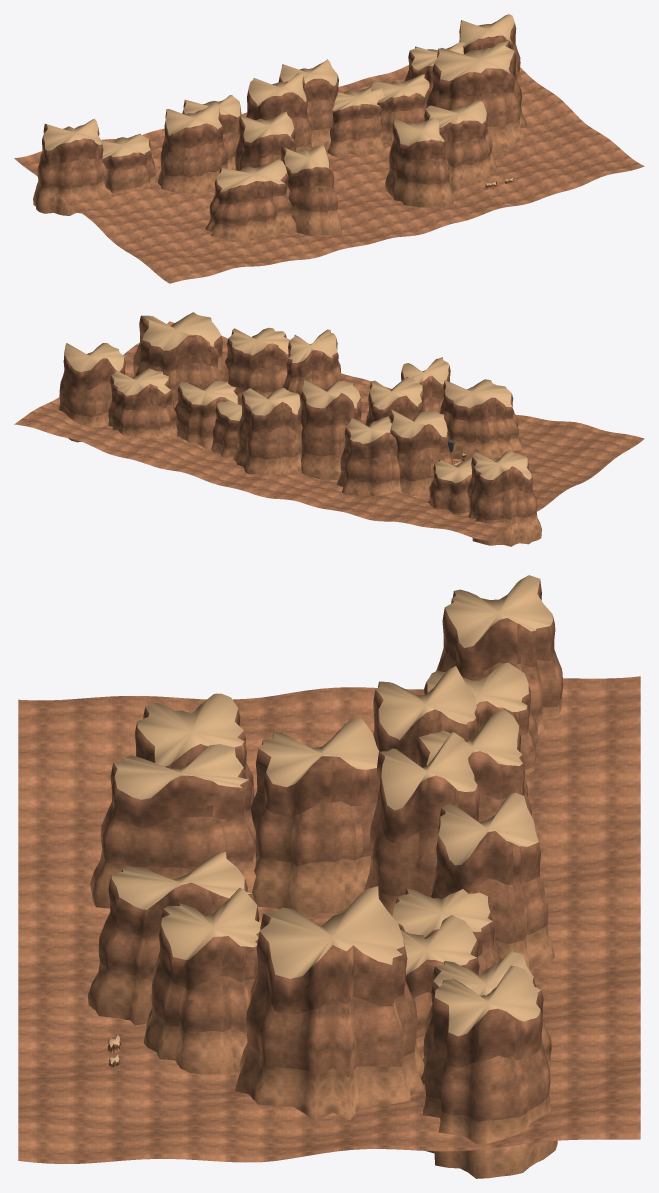
File: dune-02-v1.glb
The picture shows the model from 3 angles, top to bottom: view 1: azimuth 30°, elevation 25°; view 2: azimuth 150°, elevation 25°; view 3: azimuth 270°, elevation 25°; orthographic projection. The views are drawn at different scales.
Parts seen in each view (by area): view 1: desert strata 1, Surface mantle.002, desert strata 2, desert strata 0; view 2: desert strata 1, desert strata 2, Surface mantle.002, desert strata 0; view 3: desert strata 1, Surface mantle.002, desert strata 2, desert strata 0.
Boxes of the visible parts, <box> form: desert strata 1: <box>14,43,644,283</box>; Surface mantle.002: <box>43,14,514,191</box>; desert strata 2: <box>42,20,516,204</box>; desert strata 0: <box>33,71,526,243</box>; desert strata 1: <box>14,321,644,540</box>; desert strata 2: <box>63,316,532,496</box>; Surface mantle.002: <box>65,312,531,483</box>; desert strata 0: <box>59,374,541,546</box>; desert strata 1: <box>18,648,640,1163</box>; Surface mantle.002: <box>108,575,552,1064</box>; desert strata 2: <box>108,579,555,1068</box>; desert strata 0: <box>88,697,562,1178</box>.
Bounding box in the file's own units: 208 × 38.27 × 115.
5 materials, 3 textured.
